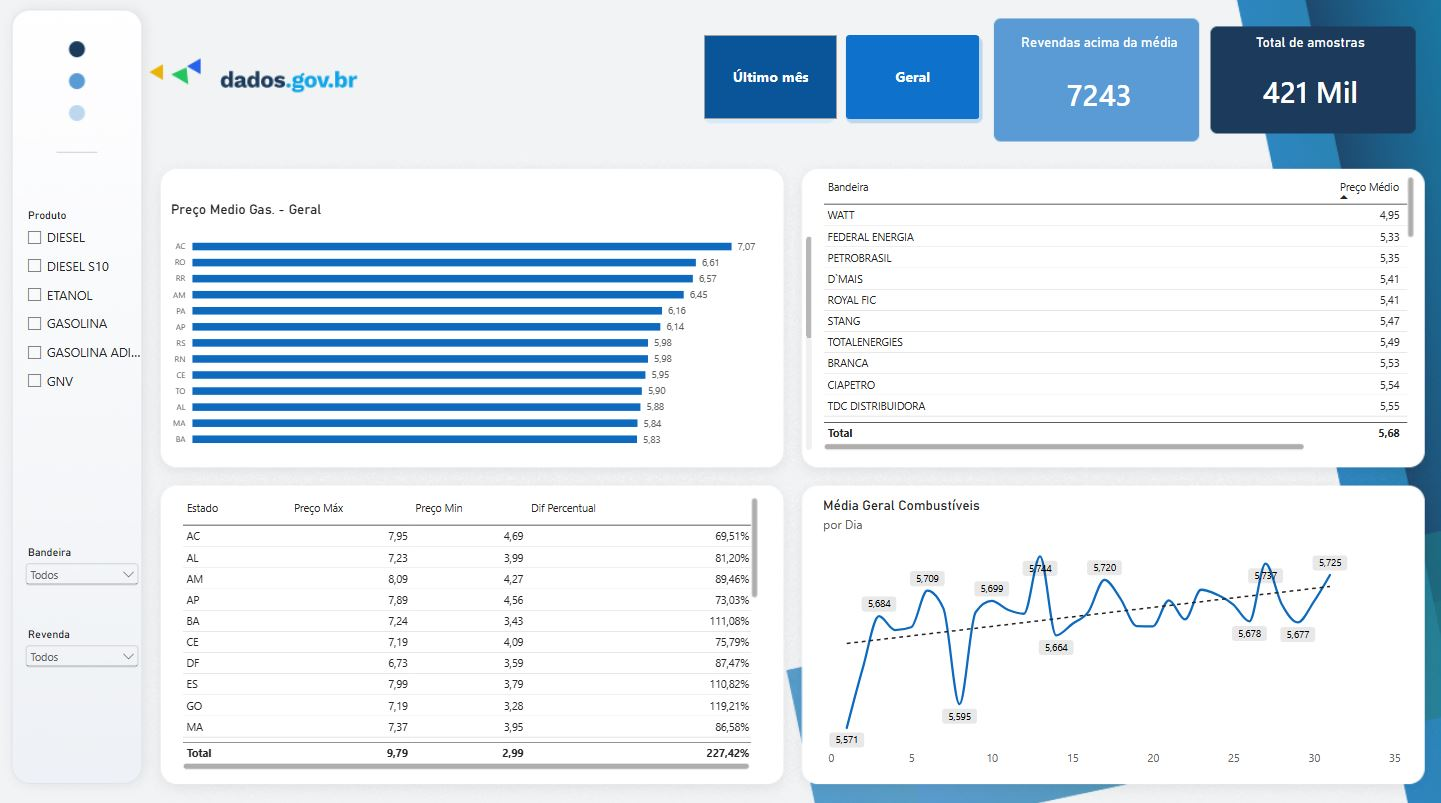

What the dashboard file says about the page in this screenshot:
{"tool":"powerbi","page":{"name":"Relatório Combustíveis","canvas":[1920,1080],"ordinal":0},"visuals":[{"type":"clusteredColumnChart","title":"Preço Médio Gas. - Último mês base","fields":{"Category":["dEstados.Estado - Sigla"],"Y":["Medidas.Preco Medio Gas"]},"box":[234.9,246.9,806.6,374.1],"z":0},{"type":"tableEx","fields":{"Values":["dBandeira.Bandeira","Medidas.Media Geral Combustiveis","Medidas.Revendas acima da media"]},"box":[1083.7,230.2,813.8,391.7],"z":2000},{"type":"lineChart","fields":{"Category":["fPrecos.Data da Coleta.Variation.Hierarquia de datas.Ano","fPrecos.Data da Coleta.Variation.Hierarquia de datas.Trimestre","fPrecos.Data da Coleta.Variation.Hierarquia de datas.Mês","fPrecos.Data da Coleta.Variation.Hierarquia de datas.Dia"],"Y":["Medidas.Media Geral Combustiveis"]},"box":[1083.7,655.1,798,390.3],"z":4000},{"type":"card","title":"Total de amostras","fields":{"Values":["Medidas.Total Amostras"]},"box":[1608.1,41.8,273.5,141.1],"z":6000},{"type":"slicer","fields":{"Values":["dRevenda.Revenda"]},"box":[39.7,841.6,158.8,79.4],"z":8000},{"type":"slicer","fields":{"Values":["dBandeira.Bandeira"]},"box":[39.7,733.1,158.8,75.4],"z":9000},{"type":"actionButton","box":[941.5,56.4,176.3,111.1],"z":10000},{"type":"actionButton","box":[1130.1,56.4,176.3,111.1],"z":11000},{"type":"slicer","fields":{"Values":["dProdutos.Produto"]},"box":[39.7,287.1,158.8,349.3],"z":11001},{"type":"tableEx","fields":{"Values":["dEstados.Estado - Sigla","Max(fPrecos.Valor de Venda)","Min(fPrecos.Valor de Venda)","Medidas.Div Percent"]},"box":[235.8,654.6,793.7,390],"z":11003},{"type":"card","title":"Revendas acima da média","fields":{"Values":["Medidas.Revendas acima da media"]},"box":[1169.7,42.3,591.1,150],"z":11004}]}

Visuals, with their boxes on the page's 1920x1080 design canvas (x1, y1, x2, y2). These are canvas units, not pixel positions in the 1441x803 screenshot, which may show the page scaled, cropped or inside an application window:
"Preço Médio Gas. - Último mês base" clusteredColumnChart: crop(235, 247, 1042, 621)
tableEx - dBandeira.Bandeira x Medidas.Media Geral Combustiveis: crop(1084, 230, 1898, 622)
lineChart - fPrecos.Data da Coleta.Variation.Hierarquia de datas.Ano x fPrecos.Data da Coleta.Variation.Hierarquia de datas.Trimestre: crop(1084, 655, 1882, 1045)
"Total de amostras" card: crop(1608, 42, 1882, 183)
slicer - dRevenda.Revenda: crop(40, 842, 198, 921)
slicer - dBandeira.Bandeira: crop(40, 733, 198, 808)
actionButton: crop(942, 56, 1118, 168)
actionButton: crop(1130, 56, 1306, 168)
slicer - dProdutos.Produto: crop(40, 287, 198, 636)
tableEx - dEstados.Estado - Sigla x Max(fPrecos.Valor de Venda): crop(236, 655, 1030, 1045)
"Revendas acima da média" card: crop(1170, 42, 1761, 192)
